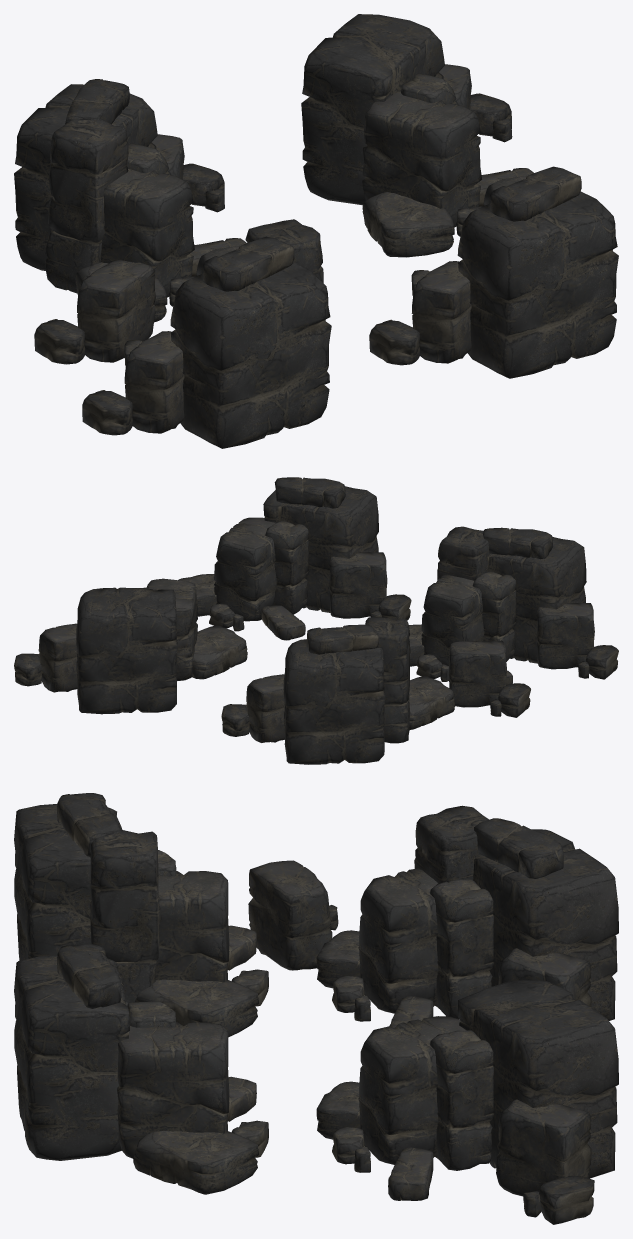
The model's file is Piedras-Rep.obj.
The picture shows the model from 3 angles, top to bottom: view 1: azimuth 30°, elevation 25°; view 2: azimuth 150°, elevation 25°; view 3: azimuth 270°, elevation 25°; orthographic projection. The views are drawn at different scales.
Visible parts, largest first — view 1: rock4_1.003, rock4_1, rock4_1.002, rock4.002, rock5_1.001, rock4.001, rock4_1.001, rock6.004, rock6.003, rock6, rock7.002, rock1_1.003 (+15 smaller); view 2: rock4_1.002, rock4_1.001, rock4_1.003, rock4_1, rock4.003, rock4, rock5_1.001, rock6.004, rock6.003, rock6, rock5.003, rock5 (+19 smaller); view 3: rock4_1.003, rock4_1.002, rock4_1.001, rock4.003, rock4.002, rock4_1, rock5_1, rock4.001, rock4, rock5.002, rock6.004, rock6.002 (+20 smaller).
Boxes of the visible parts, x1,y1,x2,y2 form: rock4_1.003: (457, 191, 618, 378); rock4_1: (170, 263, 331, 448); rock4_1.002: (301, 14, 444, 205); rock4.002: (362, 90, 481, 227); rock5_1.001: (45, 119, 128, 293); rock4.001: (100, 169, 194, 297); rock4_1.001: (14, 84, 157, 270); rock6.004: (77, 260, 155, 362); rock6.003: (411, 261, 471, 363); rock6: (124, 331, 184, 433); rock7.002: (362, 192, 454, 257); rock1_1.003: (489, 166, 581, 221); rock4_1.002: (76, 587, 177, 714); rock4_1.001: (283, 639, 385, 764); rock4_1.003: (263, 486, 378, 612); rock4_1: (487, 537, 586, 663); rock4.003: (214, 517, 276, 621); rock4: (421, 574, 484, 665); rock5_1.001: (365, 617, 410, 743); rock6.004: (448, 641, 506, 707); rock6.003: (329, 552, 387, 618); rock6: (536, 603, 594, 669); rock5.003: (265, 520, 308, 614); rock5: (472, 571, 516, 661); rock4_1.003: (14, 955, 129, 1160); rock4_1.002: (458, 980, 618, 1178); rock4_1.001: (473, 829, 618, 1020); rock4.003: (117, 1022, 229, 1158); rock4.002: (358, 1016, 466, 1164); rock4_1: (14, 804, 122, 960); rock5_1: (90, 830, 159, 1002); rock4.001: (358, 868, 438, 1013); rock4: (155, 871, 229, 982); rock5.002: (430, 1030, 493, 1170); rock6.004: (248, 860, 332, 970); rock6.002: (496, 1099, 591, 1196).
Size of the model in its own units: 30.9 by 7.68 by 24.08.
5 materials, 5 textured.
